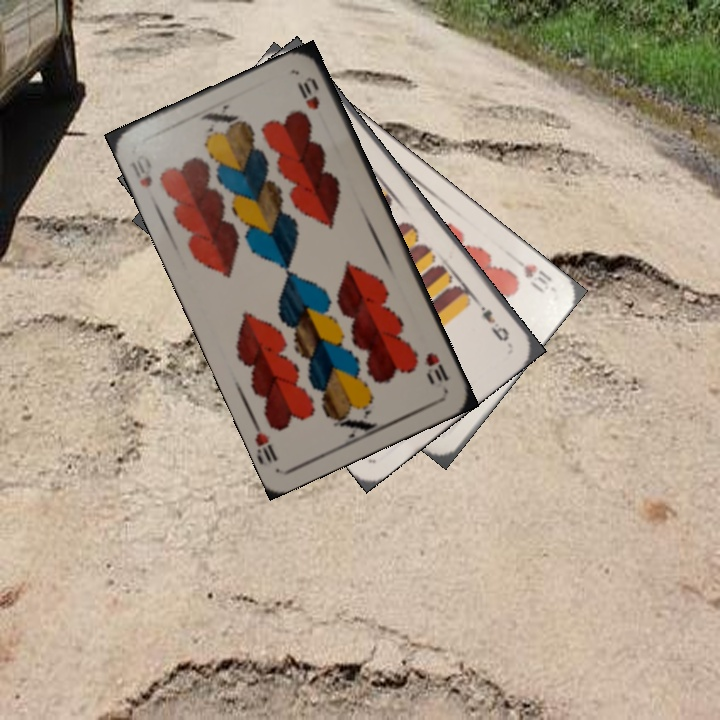E9: (473, 296, 512, 344)
H10: (519, 260, 555, 296), (126, 150, 155, 190), (421, 348, 451, 386)
